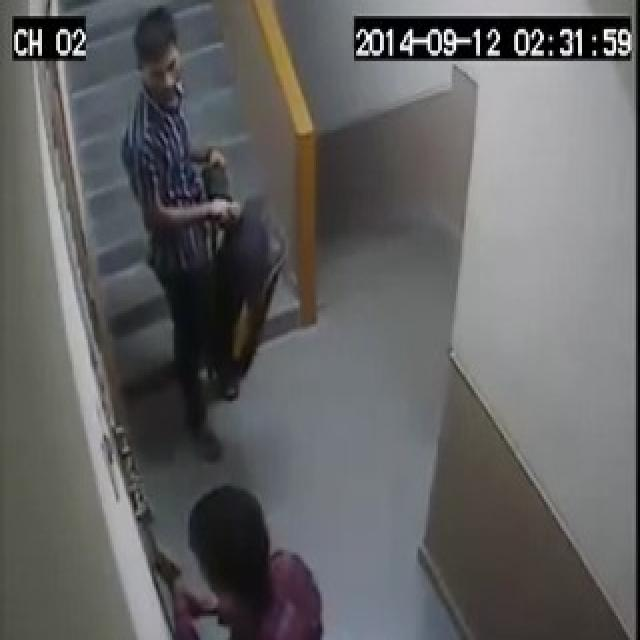thief: (100, 0, 280, 433), (142, 491, 336, 640)
